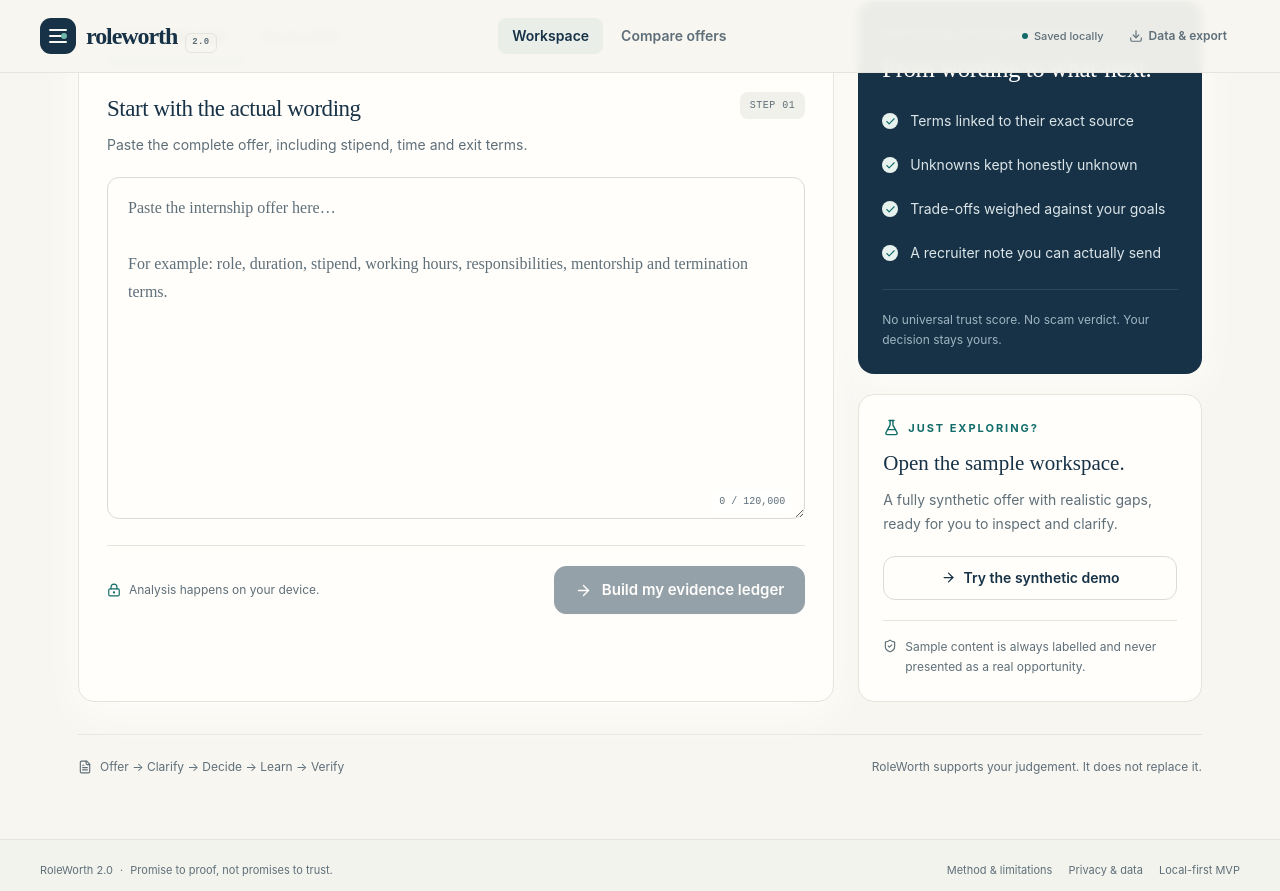
Scenario: RoleWorth user journey › compares separate synthetic offers without mixing their values
(page scrolled)
Click the button "Try the synthetic demo". click: (1030, 578)
box: [883, 556, 1177, 600]
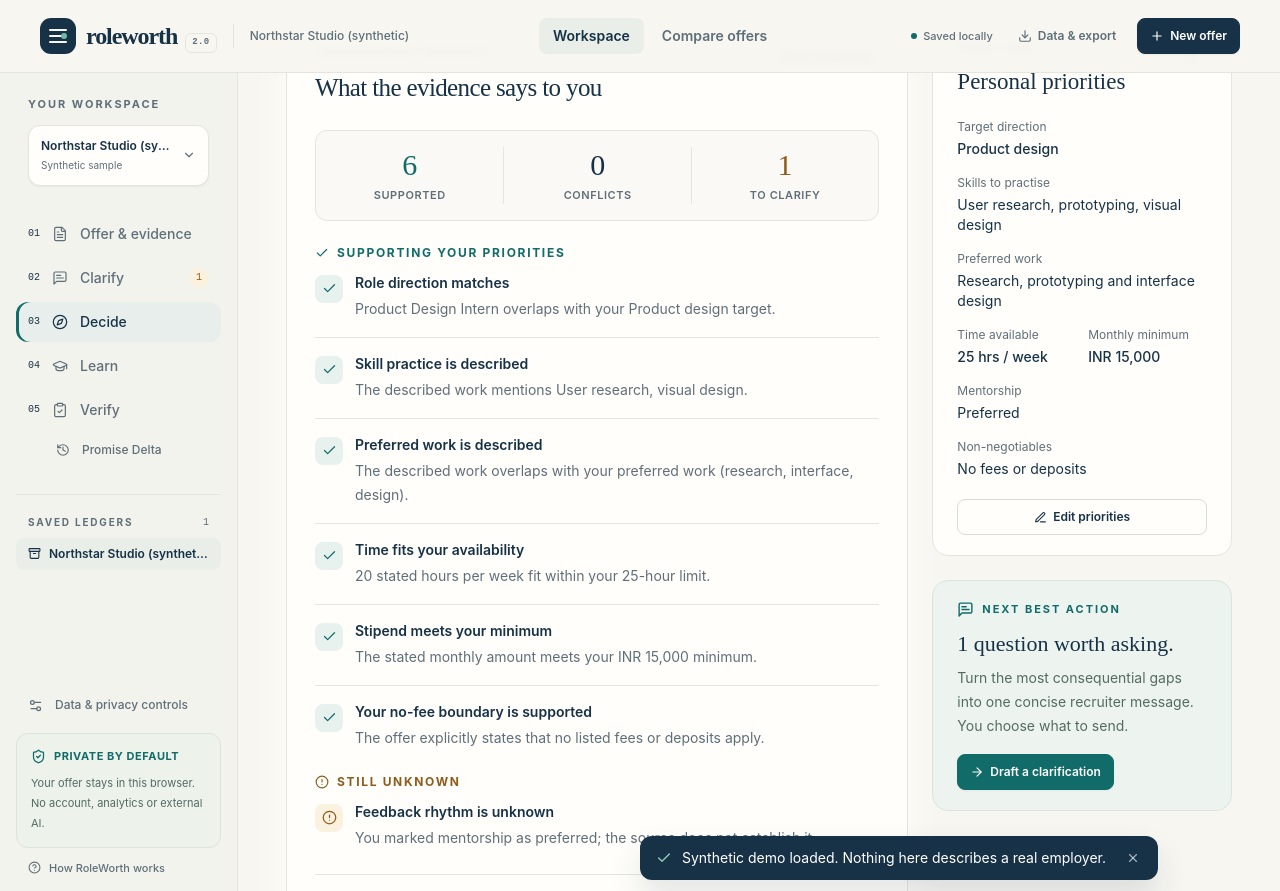
Click the button "Compare offers". click: (715, 36)
box: [648, 18, 781, 54]
(page scrolled)
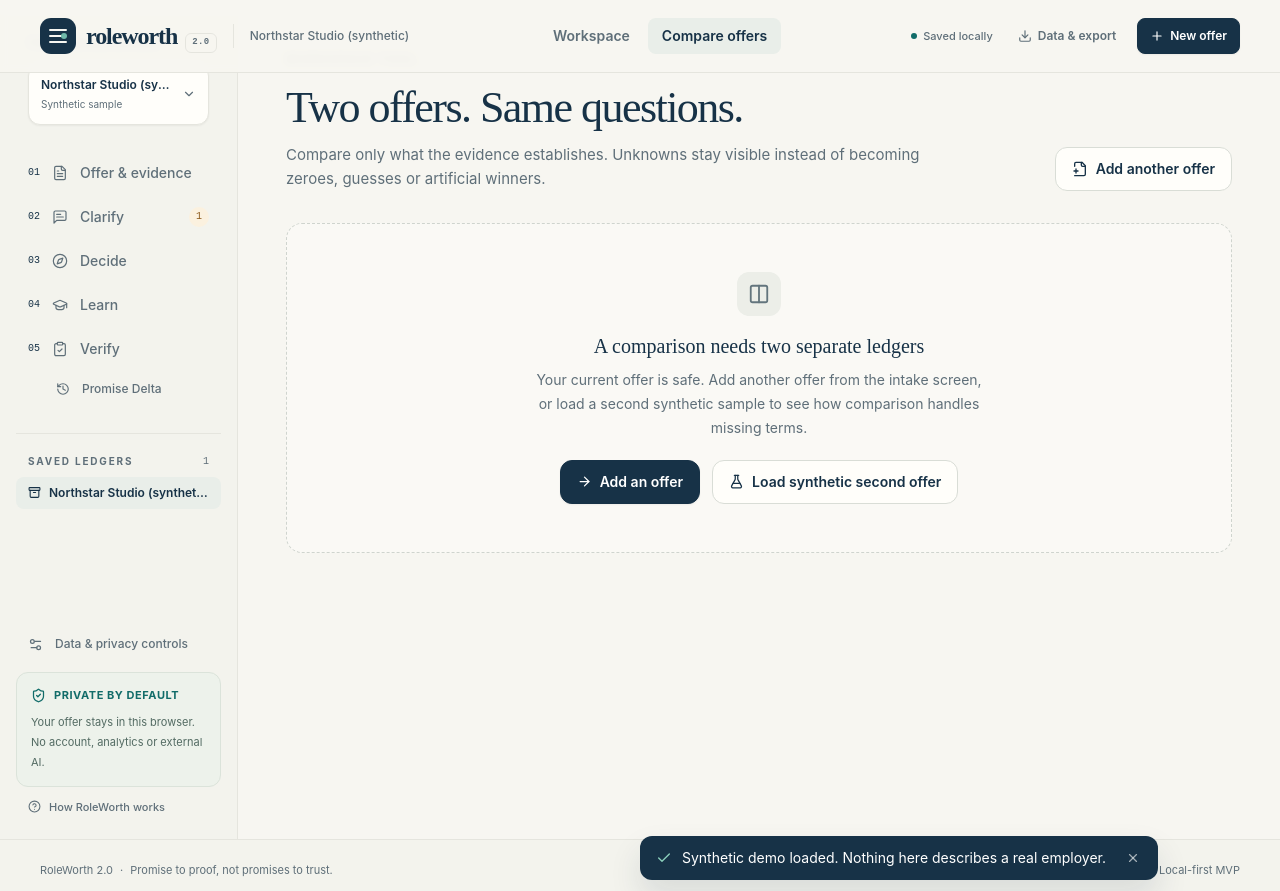
Click the button "Load synthetic second offer". click: (835, 482)
box: [712, 460, 958, 504]
(page scrolled)
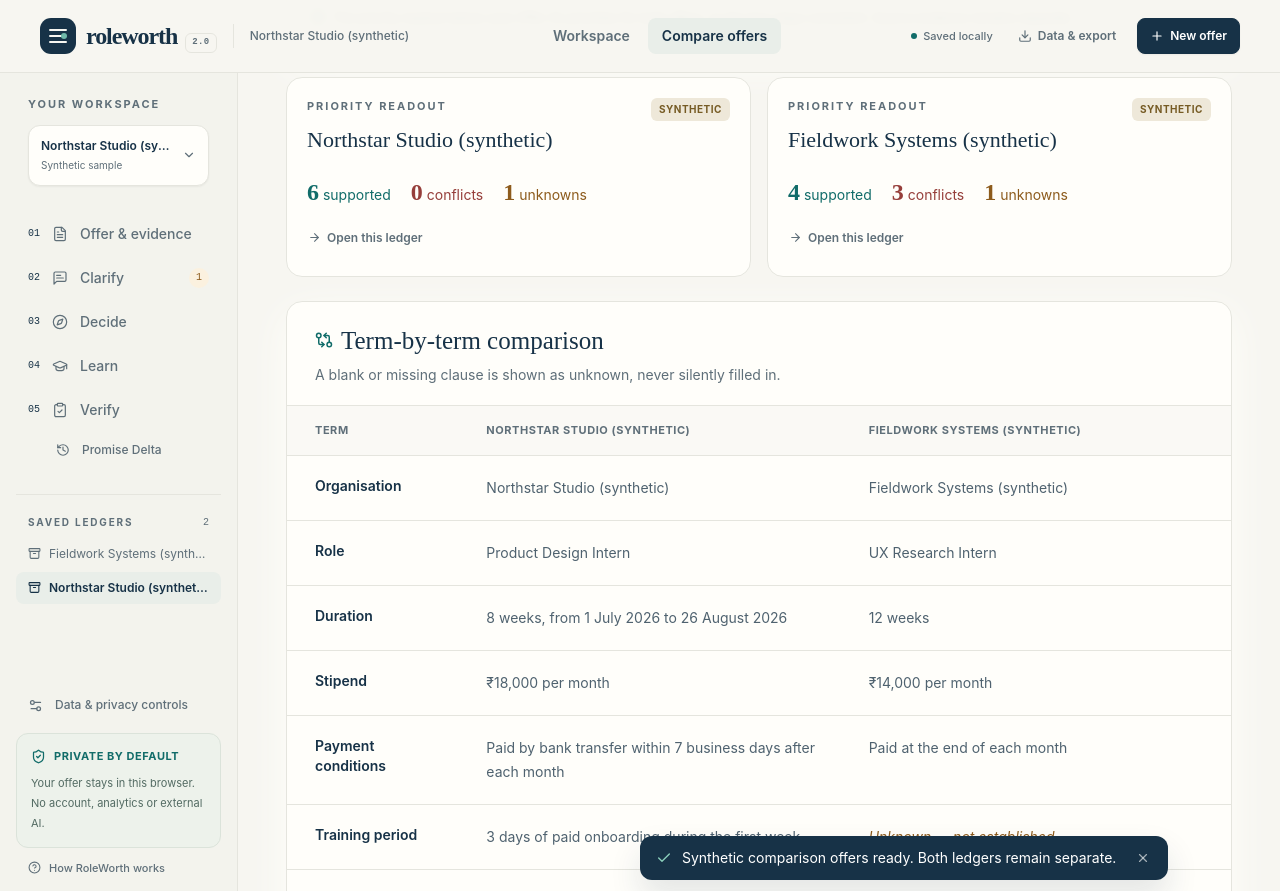
Check: the heading "Term-by-term comparison" is shown, box [341, 322, 604, 359]
Check: the text "Product Design Intern" is shown, box [466, 520, 849, 585]
Check: the text "UX Research Intern" is shown, box [849, 520, 1231, 585]
